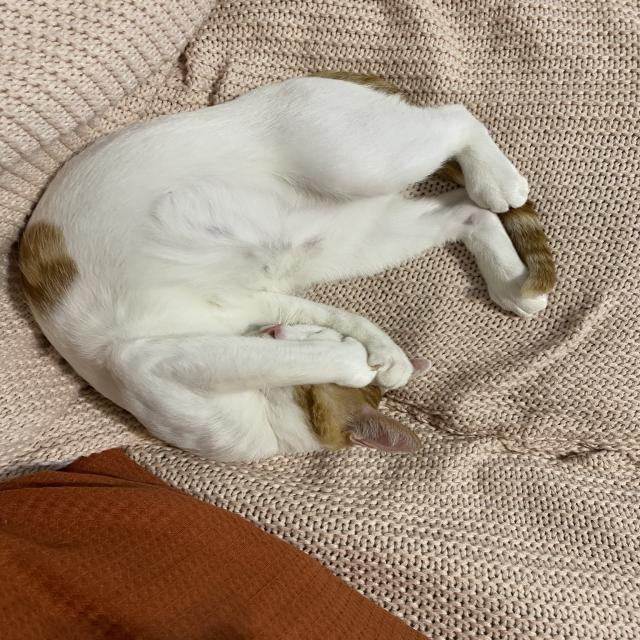cat1: (0, 76, 557, 463)
